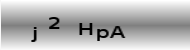2: (47, 16, 61, 29)
A: (109, 25, 126, 39)
H: (77, 21, 93, 35)
j: (30, 26, 37, 42)
p: (96, 28, 109, 41)
